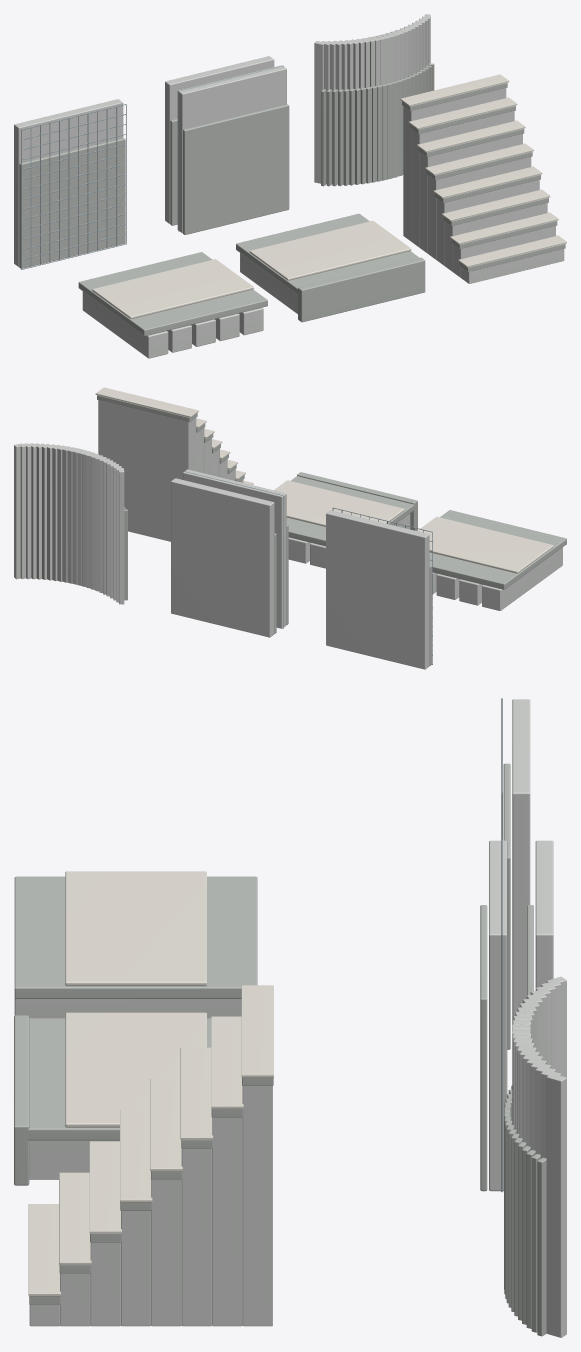
The model's file is elements.glb.
The picture shows the model from 3 angles, top to bottom: view 1: azimuth 30°, elevation 25°; view 2: azimuth 150°, elevation 25°; view 3: azimuth 270°, elevation 25°; orthographic projection. The views are drawn at different scales.
Visible parts, largest first — view 1: double concrete, single concrete, double core, Floor finish, Floor finish.001, single core, Landing edge, Element mesh, Topping concrete, Topping concrete.001, double core.001, Stair core.007 (+46 smaller); view 2: single core, double core.001, Stair core.007, Floor finish, Topping concrete, Floor finish.001, double core, Topping concrete.001, Slab core rib, Tread finish.007, Curved insulating segment, Curved insulating segment.023 (+30 smaller); view 3: Floor finish, Topping concrete, Floor finish.001, Stair core.007, Stair core.006, double core, Stair core.005, Topping concrete.001, Curved insulating segment.023, single core, Stair core.004, Slab core rib.004 (+20 smaller).
Boxes of the visible parts, <box> form: double concrete: <box>183,104,289,234</box>; single concrete: <box>19,138,125,268</box>; double core: <box>177,65,286,233</box>; Floor finish: <box>92,259,253,318</box>; Floor finish.001: <box>249,220,411,280</box>; single core: <box>14,99,123,266</box>; Landing edge: <box>298,257,425,322</box>; Element mesh: <box>21,104,126,269</box>; Topping concrete: <box>78,252,267,336</box>; Topping concrete.001: <box>236,213,419,296</box>; double core.001: <box>165,56,274,223</box>; Stair core.007: <box>403,88,506,241</box>; single core: <box>326,510,429,669</box>; double core.001: <box>171,478,274,637</box>; Stair core.007: <box>98,400,196,541</box>; Floor finish: <box>417,516,553,573</box>; Topping concrete: <box>429,510,566,589</box>; Floor finish.001: <box>274,480,404,526</box>; double core: <box>183,469,286,628</box>; Topping concrete.001: <box>286,476,415,546</box>; Slab core rib: <box>482,547,562,610</box>; Tread finish.007: <box>95,387,198,417</box>; Curved insulating segment: <box>118,468,124,604</box>; Curved insulating segment.023: <box>14,443,23,579</box>; Floor finish: <box>65,871,206,986</box>; Topping concrete: <box>14,876,257,998</box>; Floor finish.001: <box>65,1012,206,1127</box>; Stair core.007: <box>242,1086,272,1326</box>; Stair core.006: <box>212,1117,242,1326</box>; double core: <box>489,840,507,1191</box>; Stair core.005: <box>181,1148,212,1326</box>; Topping concrete.001: <box>16,1018,211,1140</box>; Curved insulating segment.023: <box>546,1074,566,1337</box>; single core: <box>512,699,530,1024</box>; Stair core.004: <box>151,1179,181,1326</box>; Slab core rib.004: <box>14,998,241,1018</box>.
Bounding box in the file's own units: 9.12 × 2.82 × 5.46.
